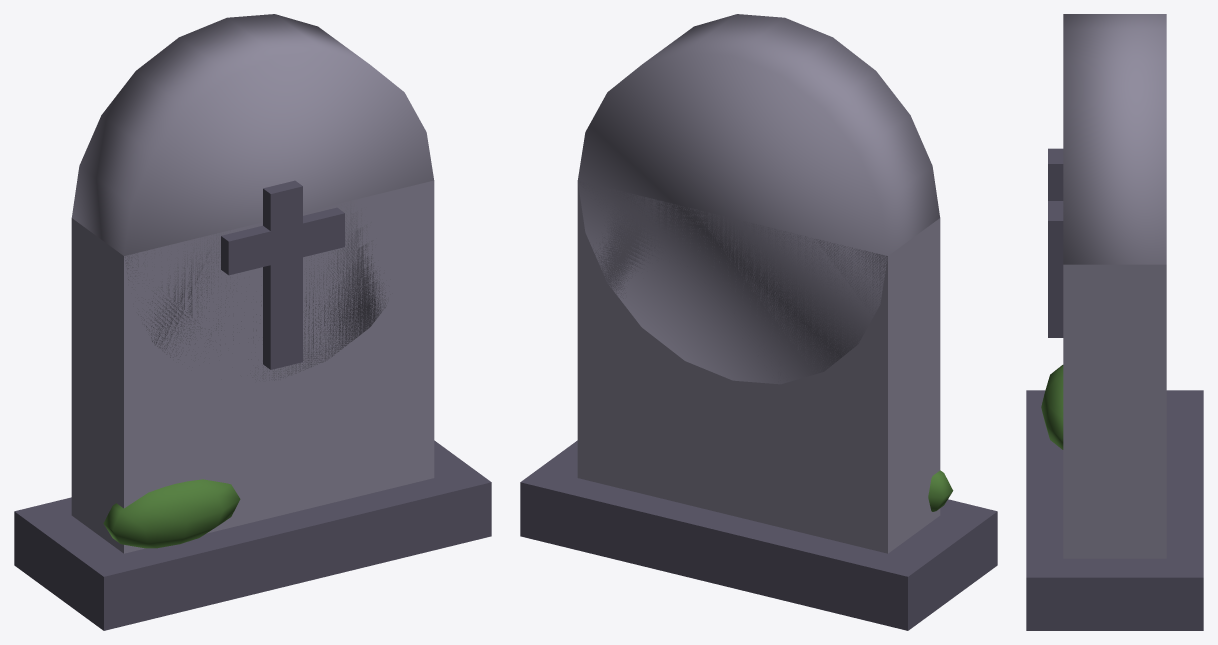
Rendered from P_Tombstone.fbx.
3 renders of one model, left to right at view 1: azimuth 30°, elevation 25°; view 2: azimuth 150°, elevation 25°; view 3: azimuth 270°, elevation 25°, orthographic.
Parts seen in each view (by area): view 1: P_Tombstone__Stone, P_Tombstone__StoneDark, P_Tombstone__Moss; view 2: P_Tombstone__Stone, P_Tombstone__StoneDark, P_Tombstone__Moss; view 3: P_Tombstone__Stone, P_Tombstone__StoneDark, P_Tombstone__Moss.
Boxes of the visible parts, left/top/right/bottom form: P_Tombstone__Stone: left=71, top=14, right=434, bottom=553; P_Tombstone__StoneDark: left=14, top=180, right=491, bottom=630; P_Tombstone__Moss: left=103, top=479, right=240, bottom=548; P_Tombstone__Stone: left=577, top=14, right=940, bottom=553; P_Tombstone__StoneDark: left=520, top=440, right=997, bottom=630; P_Tombstone__Moss: left=928, top=470, right=953, bottom=511; P_Tombstone__Stone: left=1063, top=14, right=1166, bottom=558; P_Tombstone__StoneDark: left=1026, top=148, right=1203, bottom=630; P_Tombstone__Moss: left=1041, top=365, right=1063, bottom=449.
Bounding box in the file's own units: 3 × 3.8 × 1.2.
